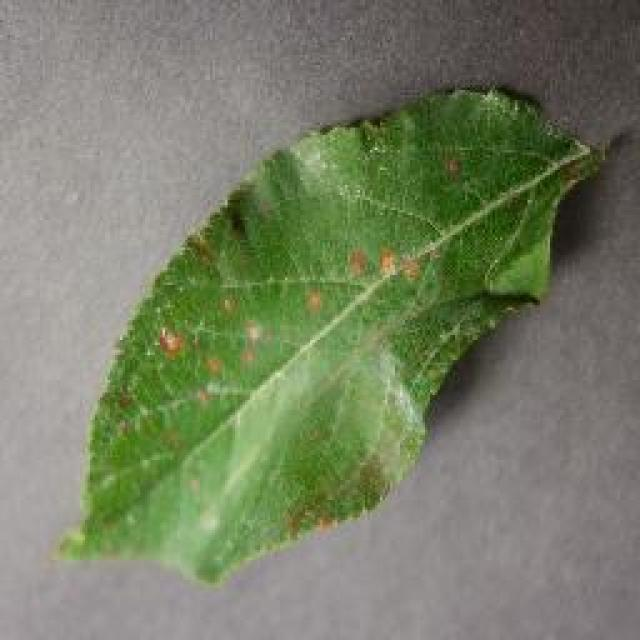apple cedar apple rust: (55, 80, 610, 585)
